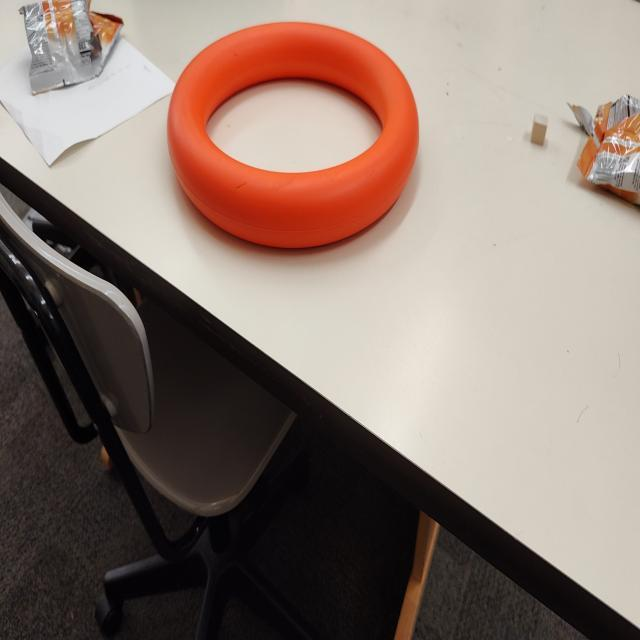note: (168, 21, 421, 250)
